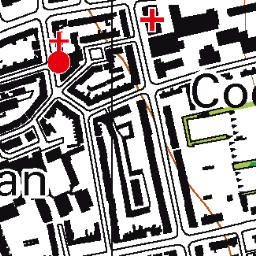church: (44, 28, 74, 77)
